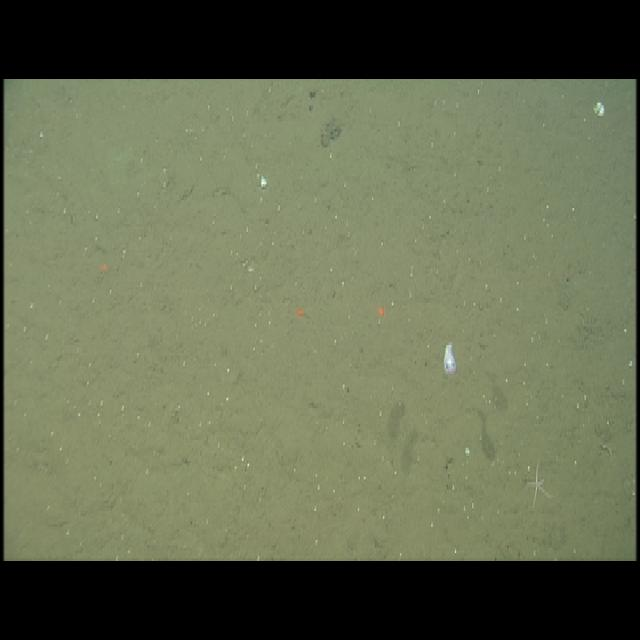Brittle Star: (522, 457, 557, 511)
